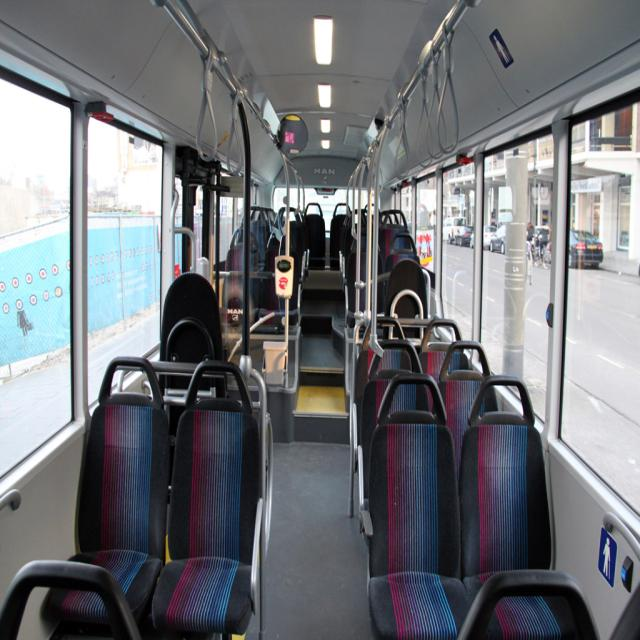empty-seat-frontal: (41, 354, 169, 631), (460, 375, 591, 639), (152, 358, 265, 640), (362, 373, 469, 640)
